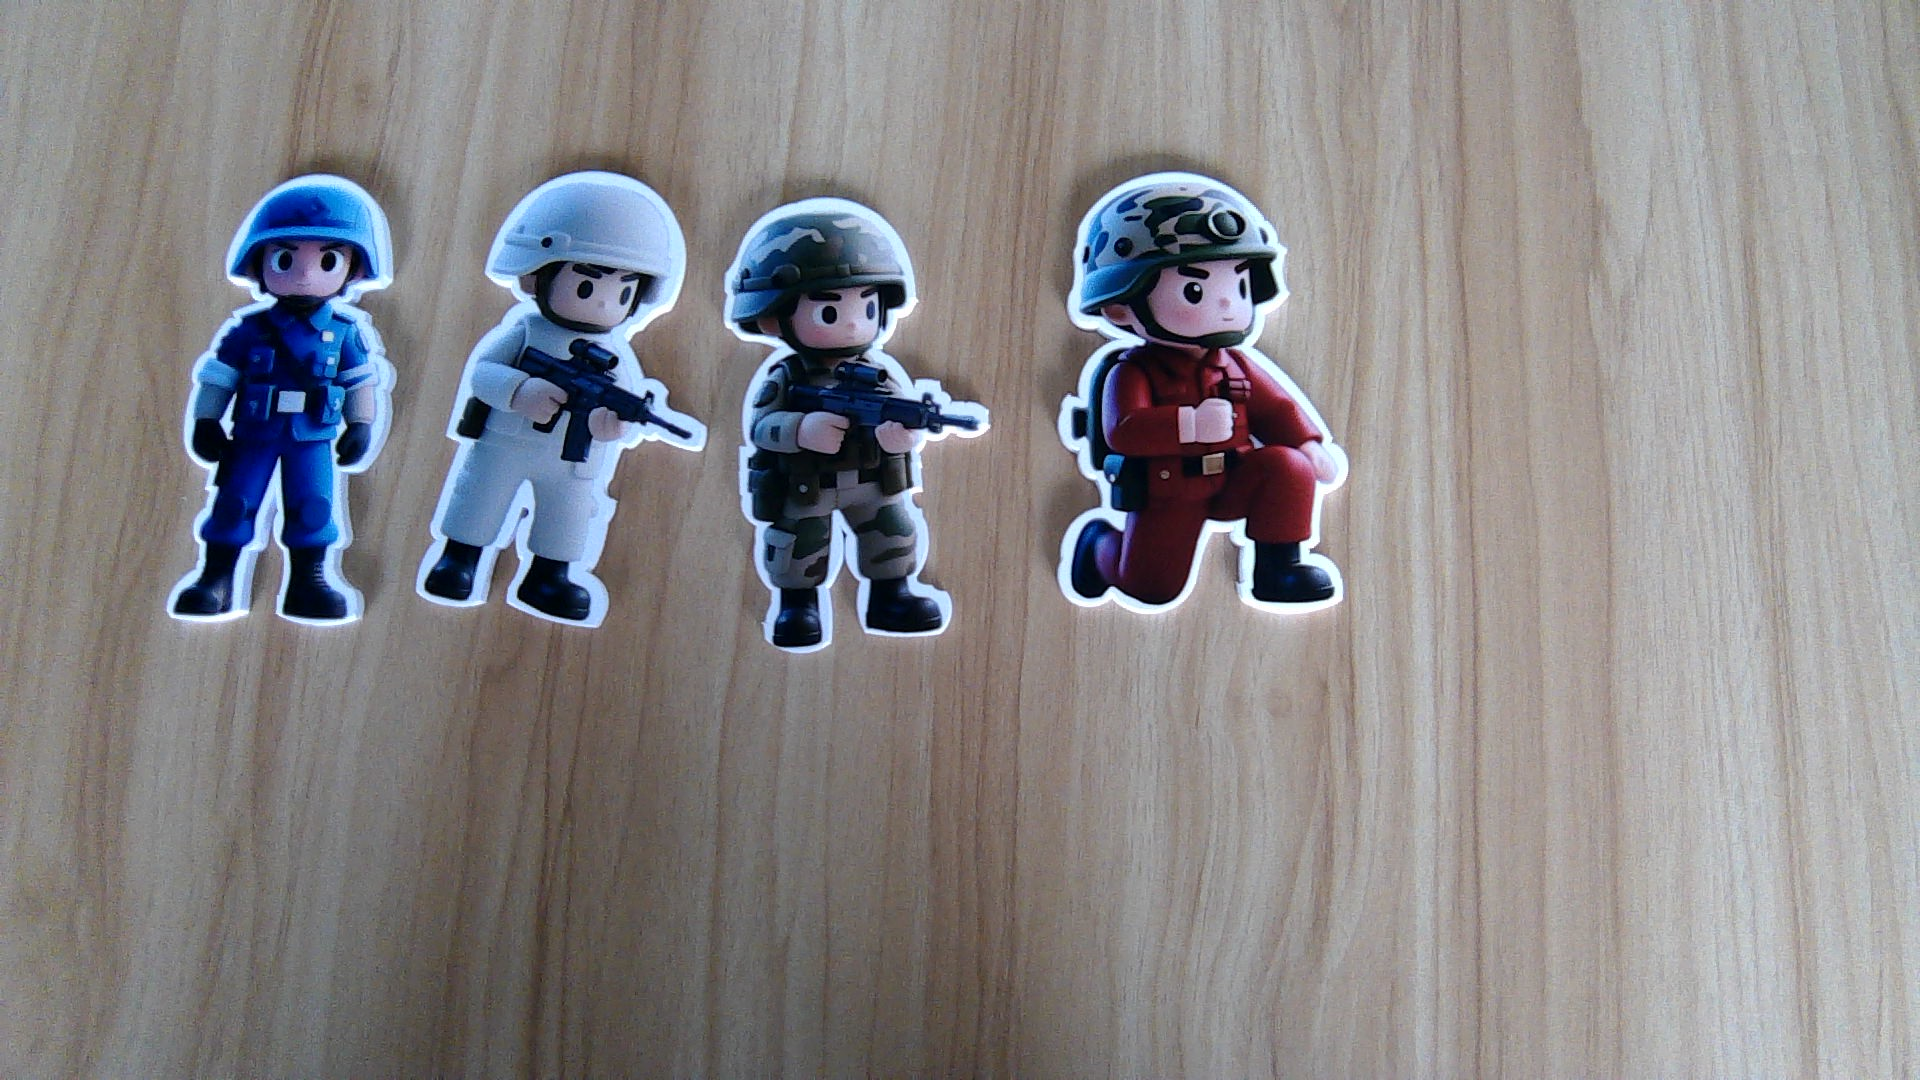人质: (410, 336, 698, 626)
友军: (735, 353, 989, 659)
敌人1: (1052, 345, 1358, 615)
敌人2: (164, 297, 398, 624)
